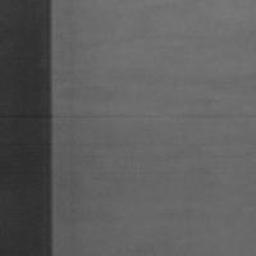Welding line: (47, 0, 54, 256)
